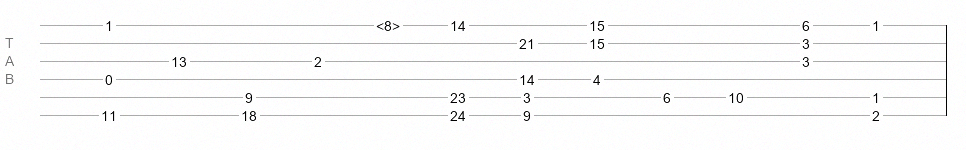0: (105, 72, 113, 82)
1: (105, 18, 113, 28), (872, 18, 880, 28), (872, 90, 880, 100)
10: (728, 90, 744, 100)
11: (101, 108, 117, 118)
13: (171, 54, 187, 64)
14: (450, 18, 466, 28), (519, 72, 535, 82)
15: (589, 18, 605, 28), (589, 36, 605, 46)
18: (241, 108, 257, 118)
2: (314, 54, 322, 64), (872, 108, 880, 118)
21: (519, 36, 535, 46)
23: (450, 90, 466, 100)
24: (450, 108, 466, 118)
3: (523, 90, 531, 100), (802, 54, 810, 64), (802, 36, 810, 46)
4: (593, 72, 601, 82)
6: (663, 90, 671, 100), (802, 18, 810, 28)
9: (245, 90, 253, 100), (523, 108, 531, 118)
harmonic: (376, 18, 400, 28)
